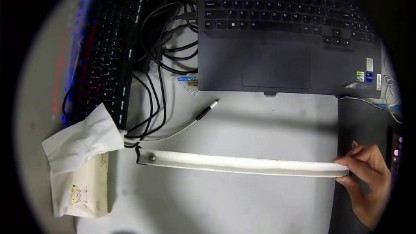gangzhu: (146, 151, 158, 164)
